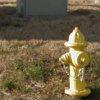Hydrant: (55, 19, 94, 100)
